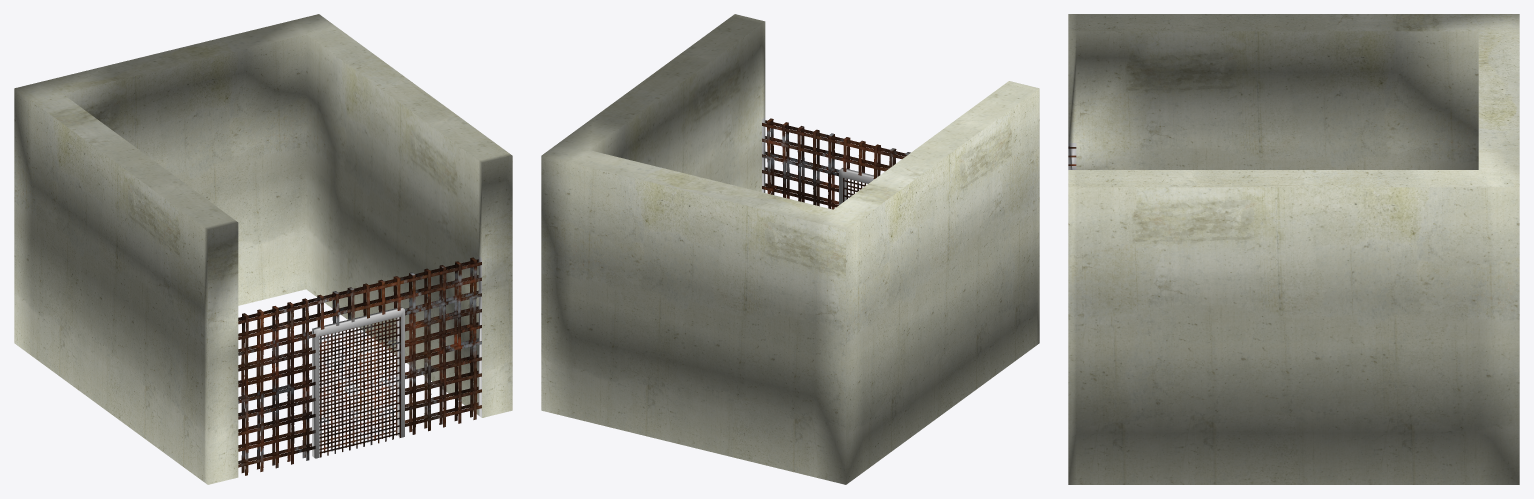
Rendered from Alley room.fbx.
The picture shows the model from 3 angles, left to right: view 1: azimuth 30°, elevation 25°; view 2: azimuth 150°, elevation 25°; view 3: azimuth 270°, elevation 25°; orthographic projection. The views are drawn at different scales.
Parts seen in each view (by area): view 1: alley room; view 2: alley room; view 3: alley room.
Boxes of the visible parts, x1=… form: alley room: x1=14, y1=14, x2=512, y2=484; alley room: x1=541, y1=14, x2=1039, y2=484; alley room: x1=1068, y1=14, x2=1519, y2=484.
Bounding box in the file's own units: 1000 × 1100 × 800.
